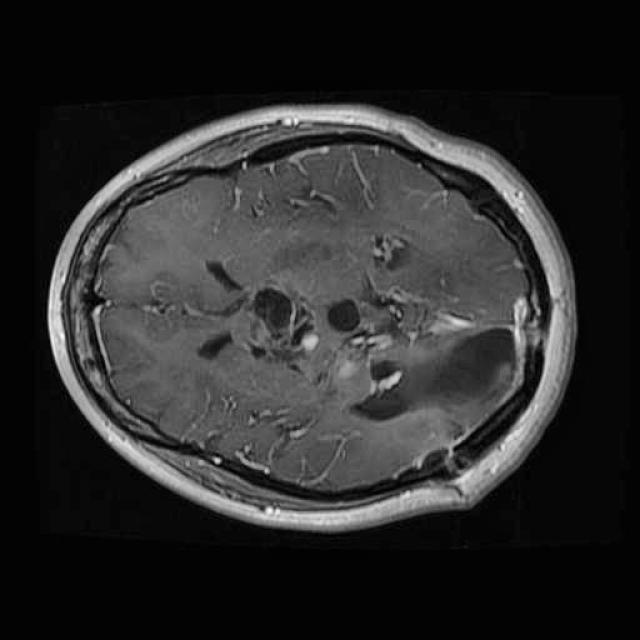Non-Tumor: (290, 265, 532, 436)
